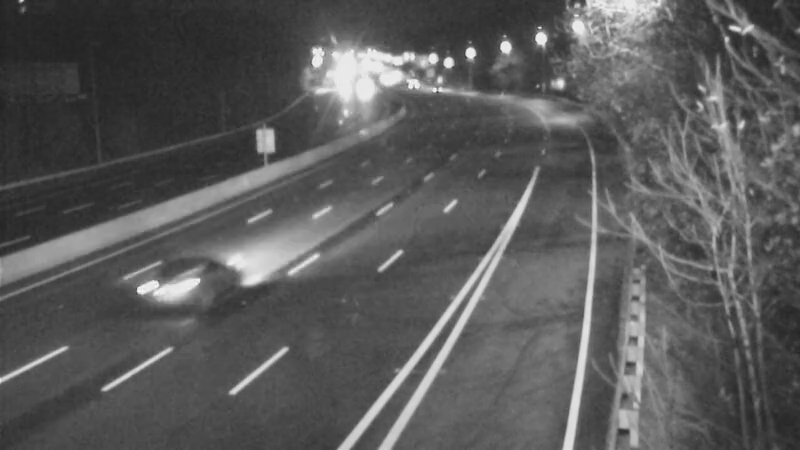vehicle: (133, 247, 213, 327), (385, 56, 435, 106), (411, 63, 461, 113)
